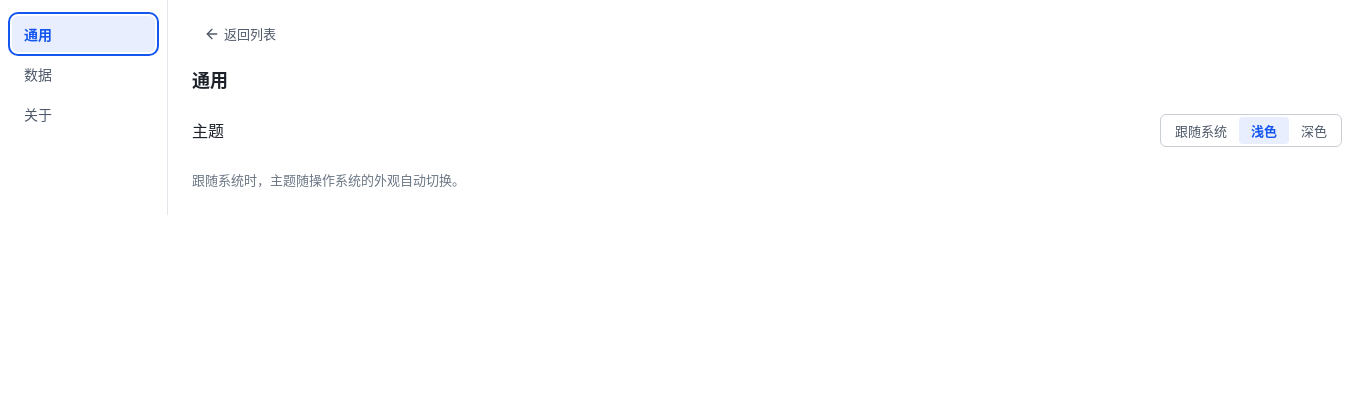
Test: SettingsPage 数据 tab (issue #13) › shows the default badge when the directory is the default one
The width and height of the screenshot is (1359, 401).
Click the button with test id "settings-nav-data": {"x": 84, "y": 74} [12,56,155,92]
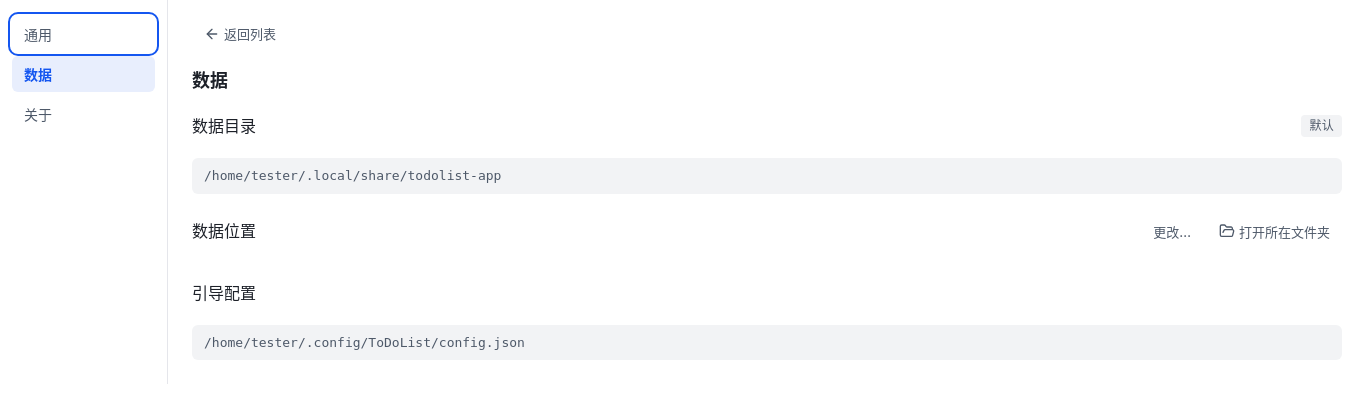
Result: the text with test id "data-dir-badge" reads "默认" at [1309,118,1334,133]
